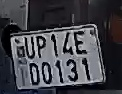0: (40, 58, 55, 87)
1: (80, 57, 92, 81), (54, 58, 64, 85), (50, 32, 60, 58)
3: (63, 57, 82, 84)
4: (61, 32, 74, 57)
D: (28, 61, 40, 88)
E: (72, 30, 92, 55)
P: (34, 35, 47, 59)
U: (23, 35, 36, 60)
